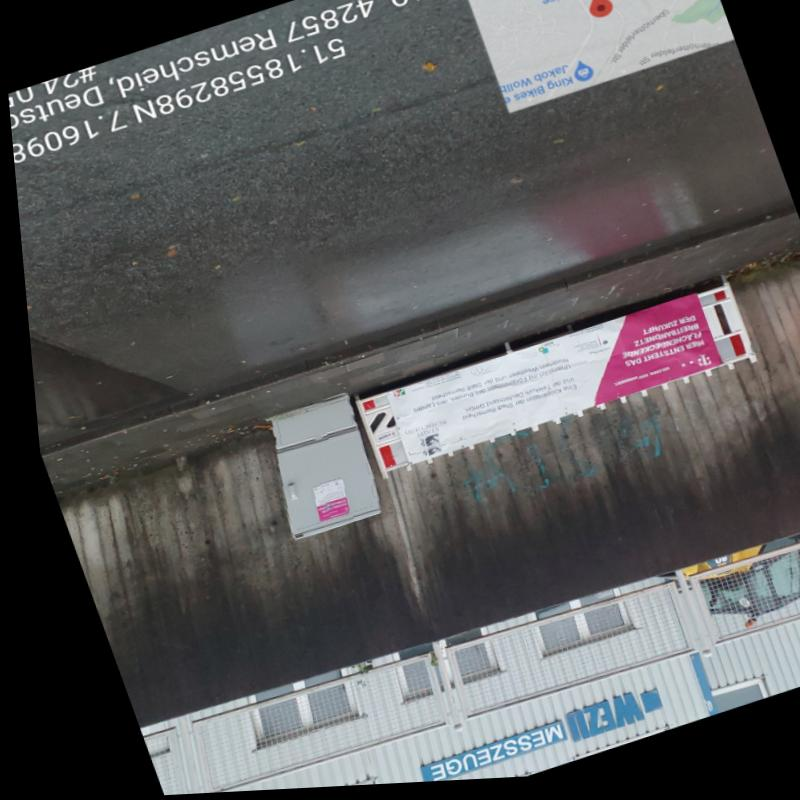Banner: (380, 300, 714, 460)
NT-Gehause: (261, 399, 370, 541)
Steaker: (303, 482, 338, 523)
